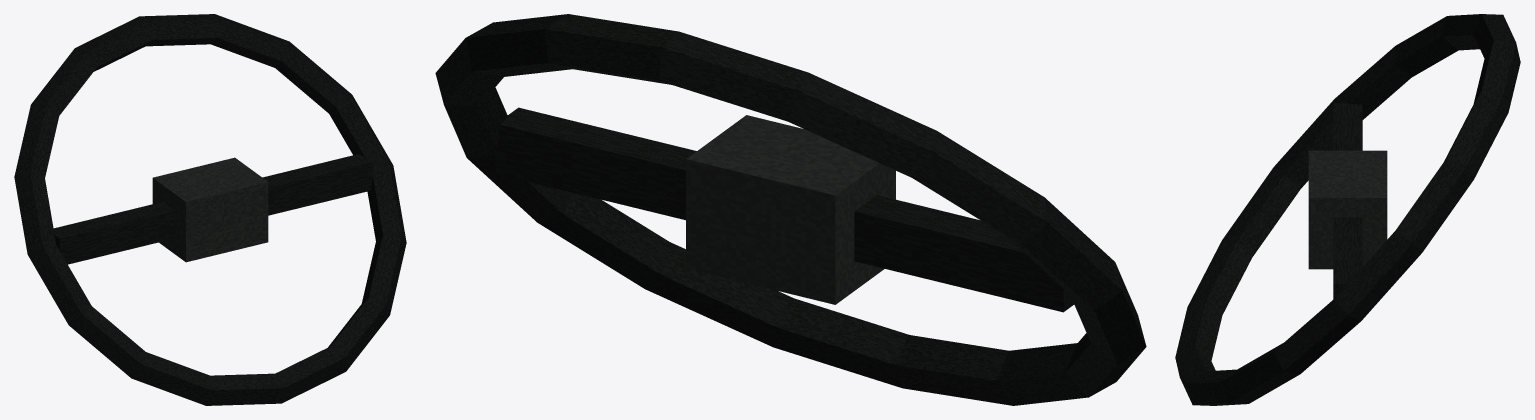
File: steering.glb
3 views of the same model, side by side, from view 1: azimuth 30°, elevation 25°; view 2: azimuth 150°, elevation 25°; view 3: azimuth 270°, elevation 25° (orthographic). The views are drawn at different scales.
Visible parts, largest first — view 1: steering; view 2: steering; view 3: steering.
Boxes of the visible parts, bbox=[...] form: steering: bbox=[14, 14, 406, 405]; steering: bbox=[435, 14, 1146, 405]; steering: bbox=[1175, 14, 1520, 405].
Size of the model in its own units: 0.444 by 0.3329 by 0.3069.
Materials: 1 (1 with a texture image).
